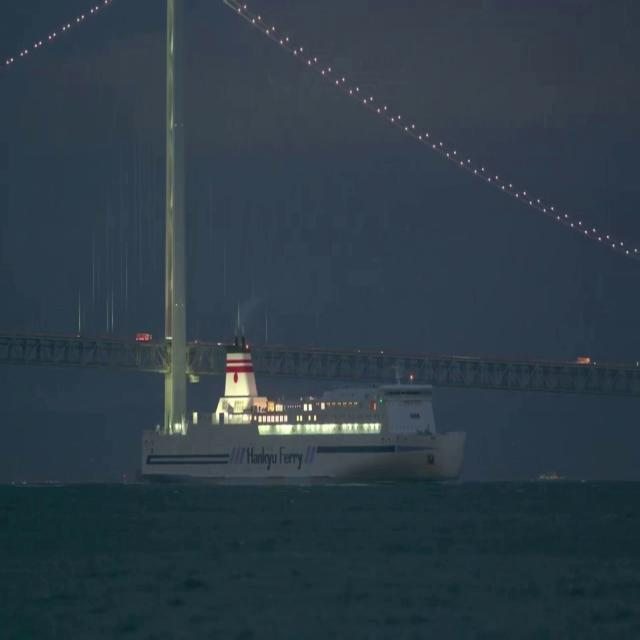OCR: (244, 440, 304, 474)
